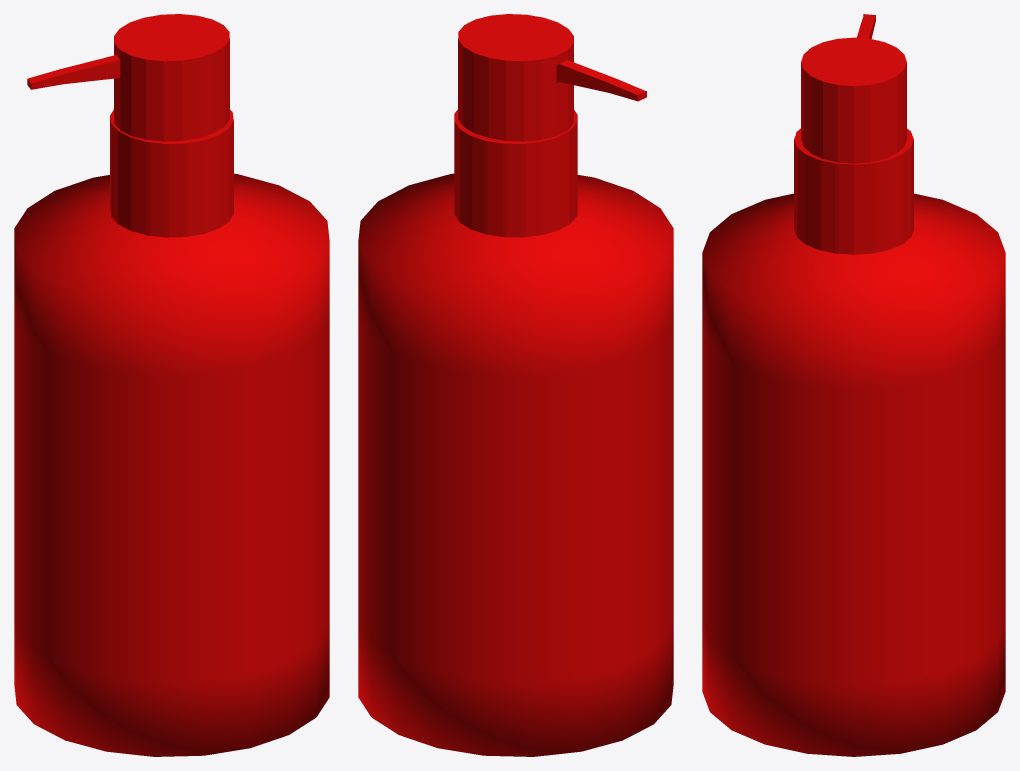
The model's file is ShampooBottleJamesWen2.fbx.
The picture shows the model from 3 angles, left to right: view 1: azimuth 30°, elevation 25°; view 2: azimuth 150°, elevation 25°; view 3: azimuth 270°, elevation 25°; orthographic projection. The views are drawn at different scales.
Parts seen in each view (by area): view 1: pCylinder1, polySurface6, pCylinder2, polySurface1; view 2: pCylinder1, polySurface6, pCylinder2, polySurface1; view 3: pCylinder1, polySurface6, pCylinder2.
Part boxes in pixels (x1,y1,x2,y2): pCylinder1: [14, 173, 329, 756]; polySurface6: [27, 14, 229, 141]; pCylinder2: [110, 109, 233, 237]; polySurface1: [28, 55, 120, 89]; pCylinder1: [358, 173, 673, 756]; polySurface6: [458, 14, 646, 141]; pCylinder2: [454, 110, 577, 237]; polySurface1: [558, 60, 645, 101]; pCylinder1: [702, 193, 1005, 756]; polySurface6: [801, 14, 906, 163]; pCylinder2: [794, 128, 913, 254].
Size of the model in its own units: 2.53 by 5.85 by 2.5.
